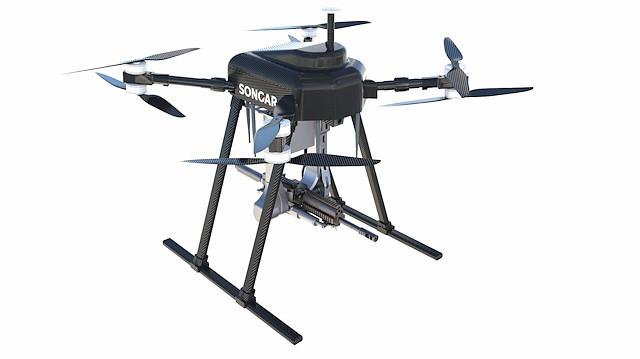drone: (81, 25, 548, 177)
